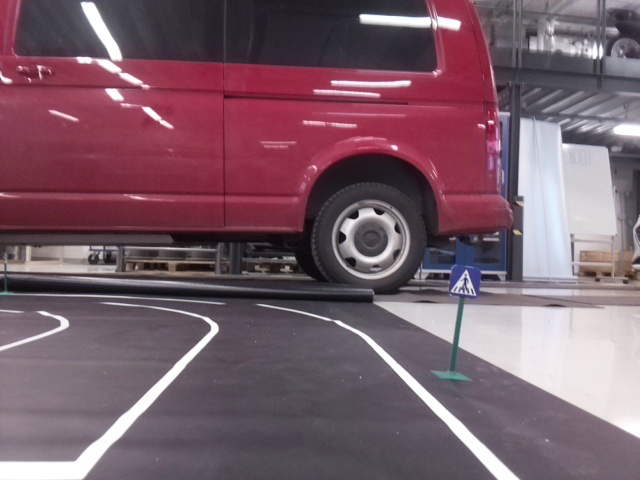Crosswalk: (449, 263, 478, 298)
